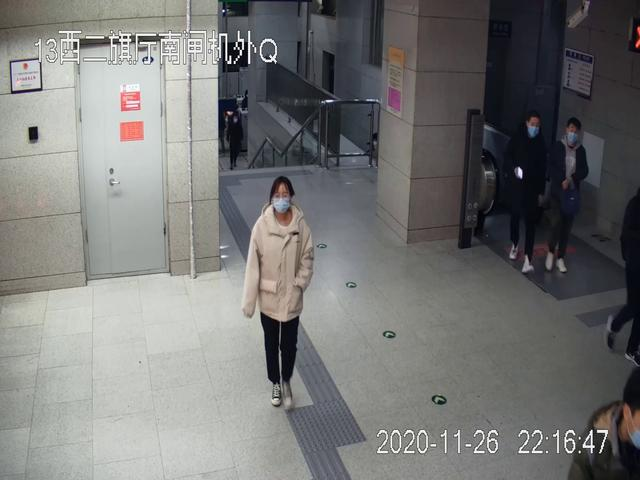person: (240, 174, 316, 412), (545, 115, 589, 273), (503, 109, 545, 274)
